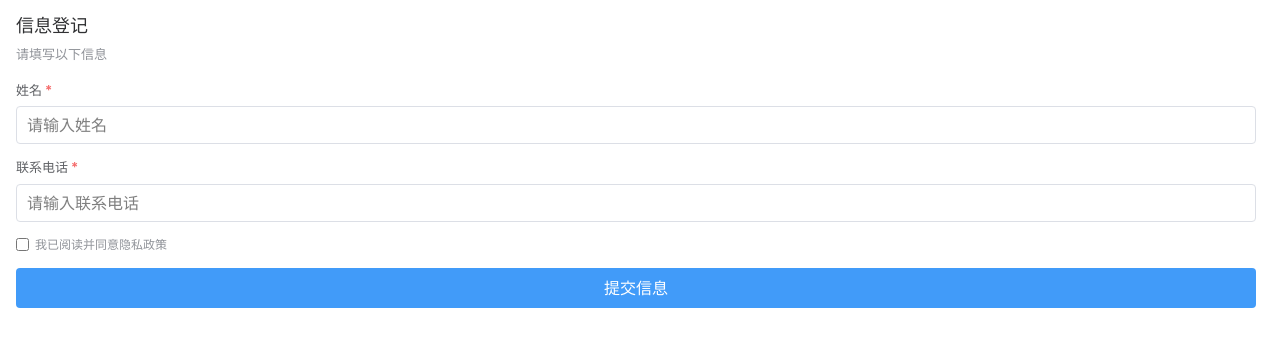
Test: BusinessFormBlock 真实提交链路 › 10. 提交成功后显示成功信息并清空表单
Type "张三" into the field with class "field-control" showing "姓名*" at coordinates (636, 125), box x1=16 y1=106 x2=1256 y2=144
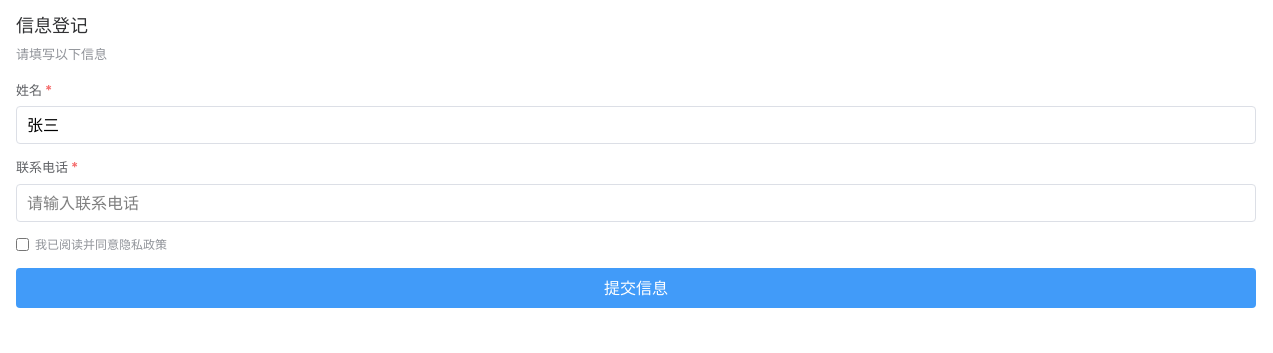
Type "13800138000" into the field with class "field-control" showing "联系电话*" at coordinates (636, 202), box x1=16 y1=184 x2=1256 y2=222
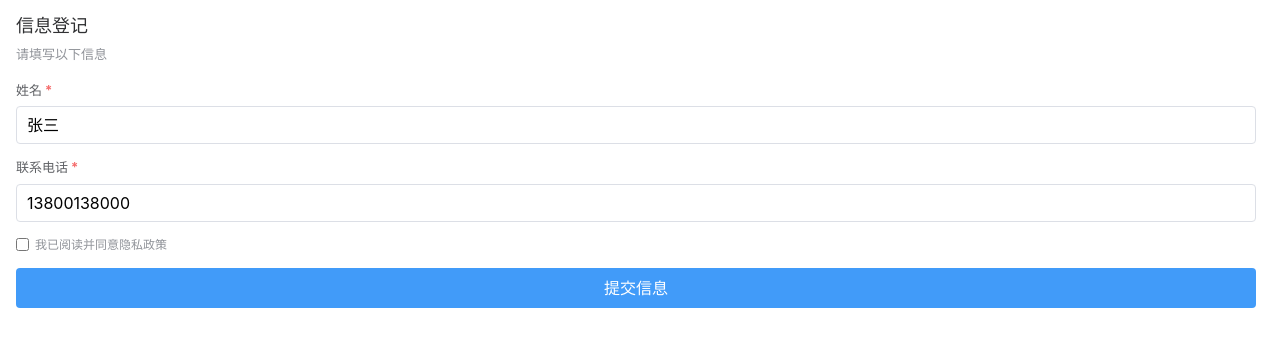
Click the checkbox labelled "我已阅读并同意隐私政策" at coordinates (22, 244), box x1=16 y1=238 x2=29 y2=251
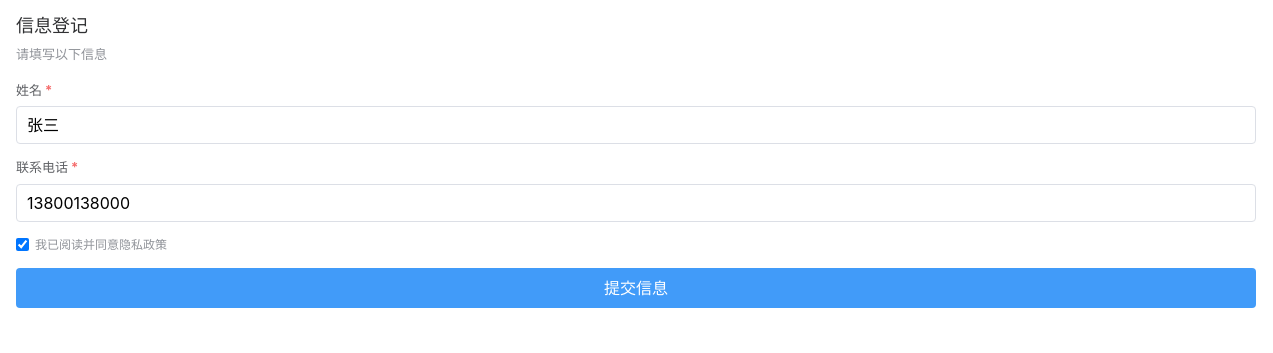
Submit the form
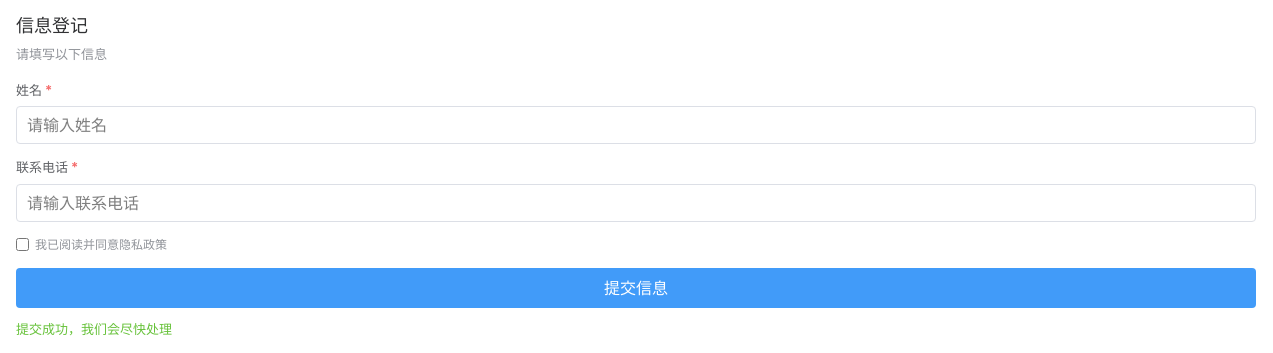
Expected: the checkbox labelled "我已阅读并同意隐私政策" is not checked, x1=16 y1=238 x2=29 y2=251
Expected: the text "提交成功" is shown, x1=16 y1=320 x2=172 y2=336
